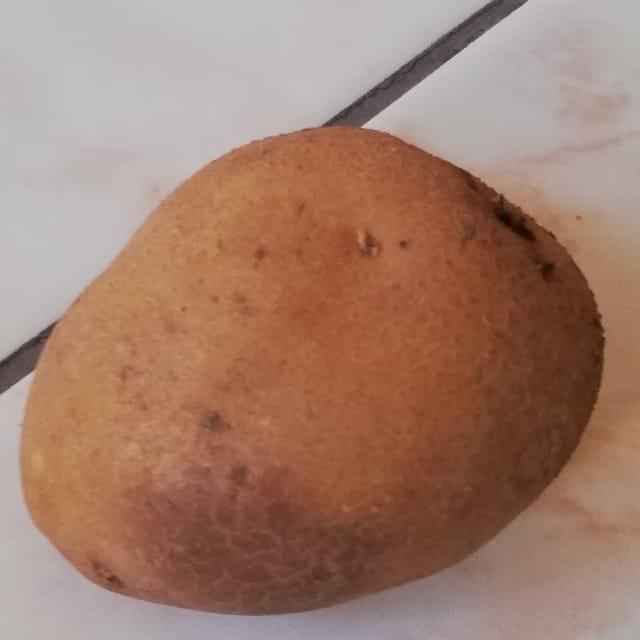potato: (0, 105, 628, 632)
